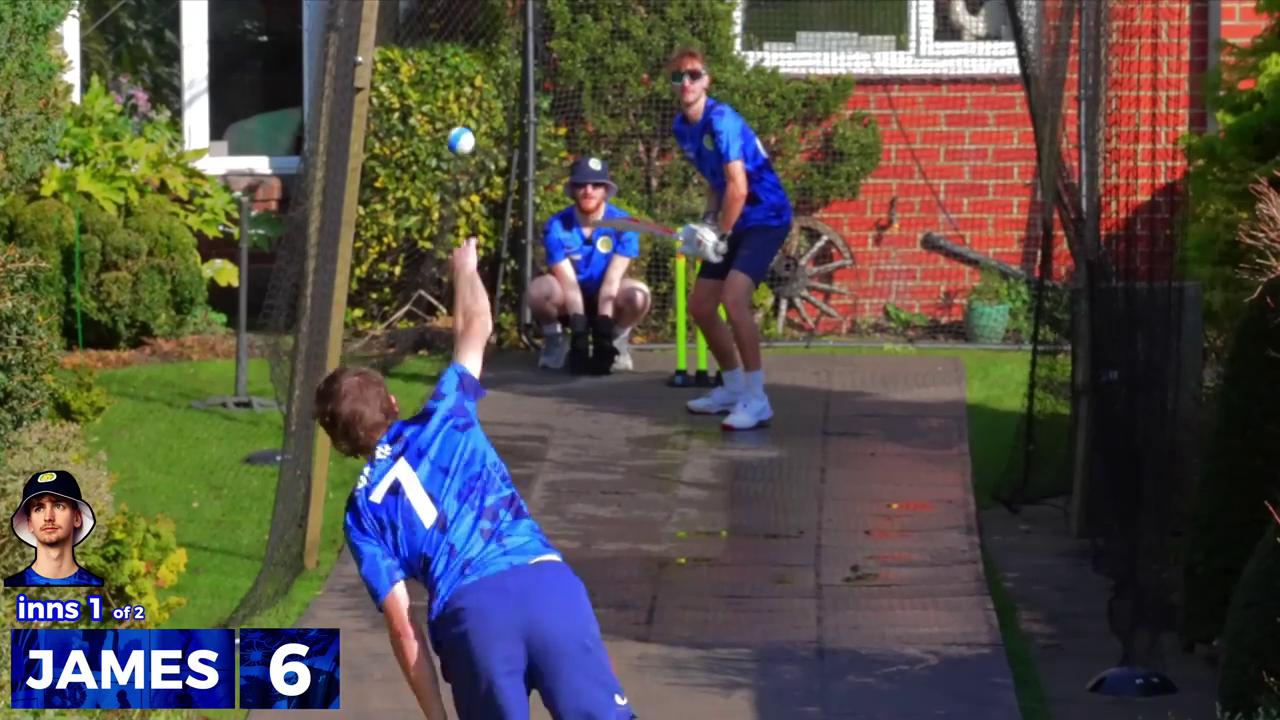ball: (437, 123, 494, 157)
